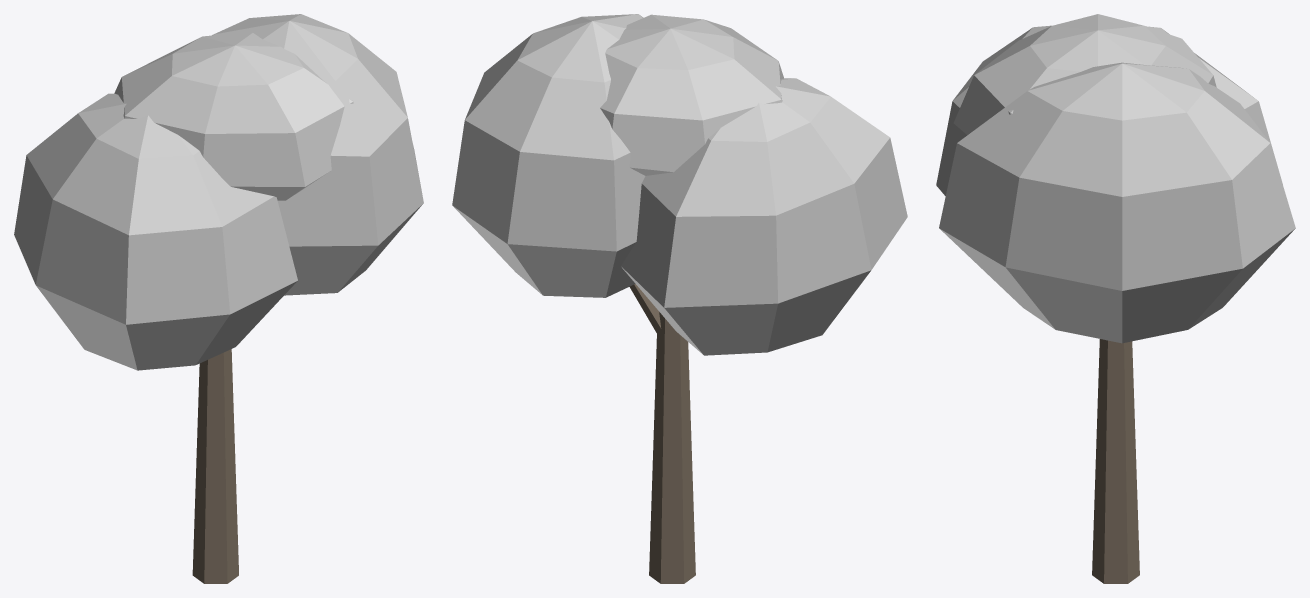
Rendered from round_0.glb.
3 renders of one model, left to right at view 1: azimuth 30°, elevation 25°; view 2: azimuth 150°, elevation 25°; view 3: azimuth 270°, elevation 25°, orthographic. The views are drawn at different scales.
Parts seen in each view (by area): view 1: round_0; view 2: round_0; view 3: round_0.
Boxes of the visible parts, x1=… form: round_0: x1=14, y1=14, x2=423, y2=583; round_0: x1=452, y1=14, x2=907, y2=583; round_0: x1=936, y1=14, x2=1295, y2=583.
Size of the model in its own units: 3.1 by 4.05 by 2.4.
